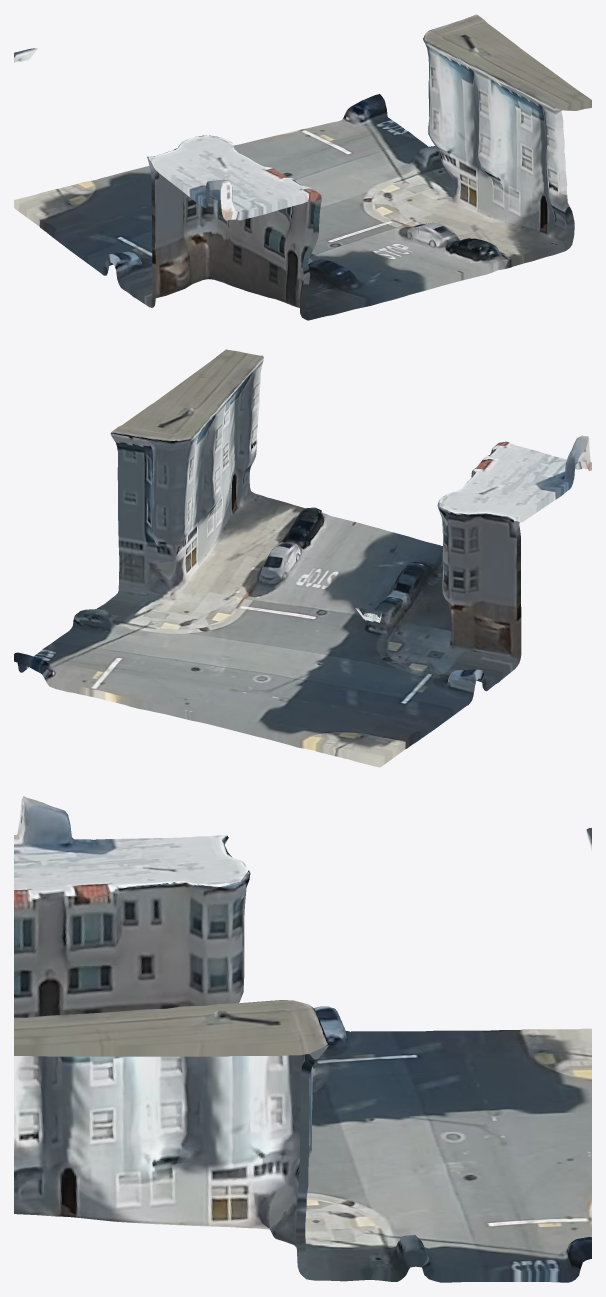
The model's file is z20-167744-405195-h0-yup-uvflip-v3-world.glb.
3 renders of one model, top to bottom at view 1: azimuth 30°, elevation 25°; view 2: azimuth 150°, elevation 25°; view 3: azimuth 270°, elevation 25°, orthographic. The views are drawn at different scales.
Size of the model in its own units: 30.16 by 14.44 by 30.32.
1 material, 1 textured.
